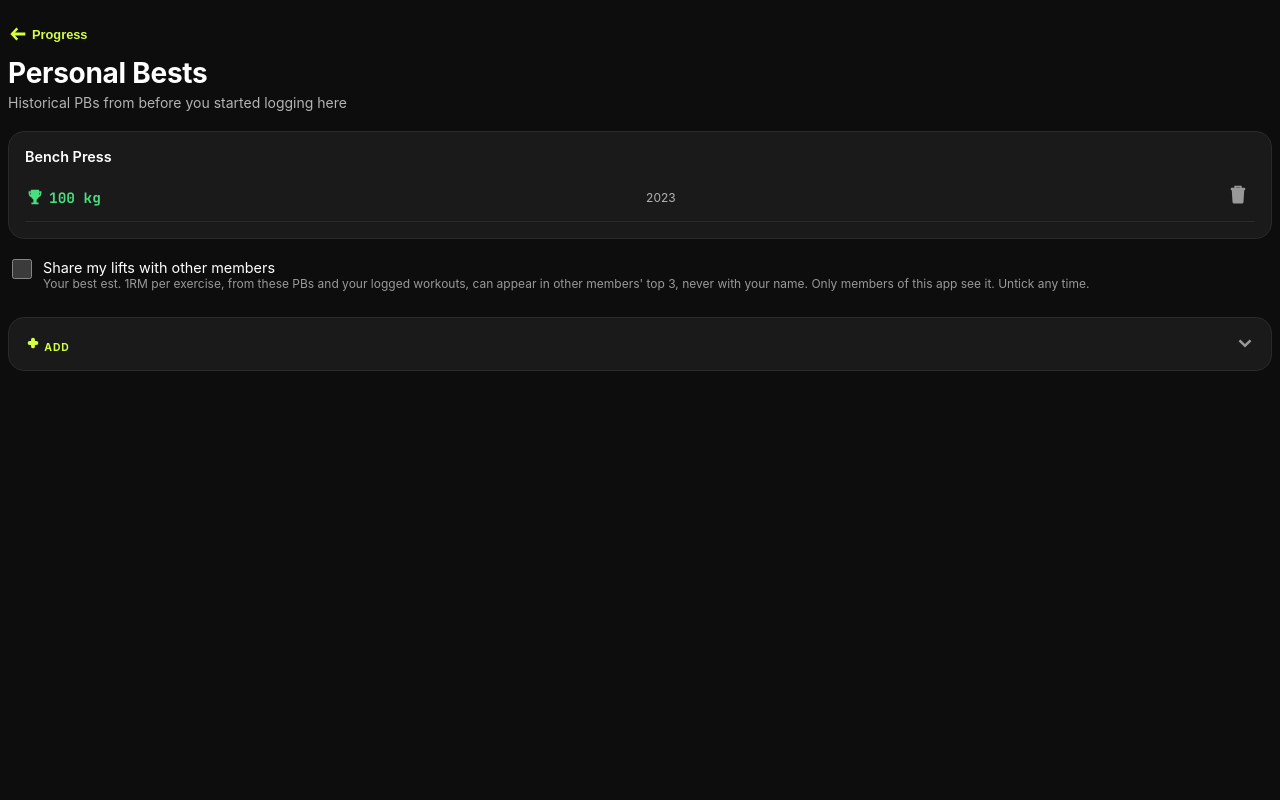
PersonalBests top-3 comparison › reflects the saved state in the toggle and sends PUT when it changes
This screenshot has width=1280, height=800.
What coordinates should you click on to do the following:
click the checkbox labelled "Share my lifts with other members"
I would click on:
 (22, 269)
Its box is [12, 259, 32, 279].
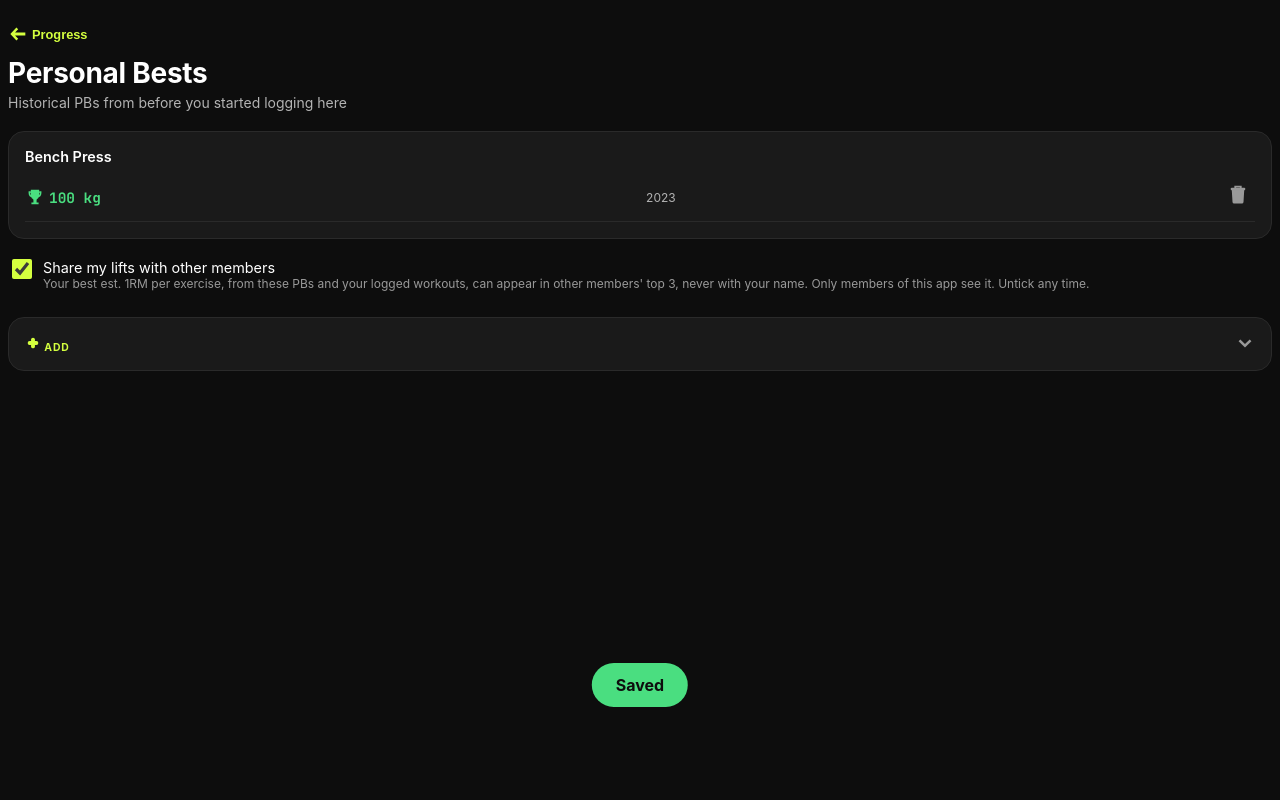
expect the checkbox labelled "Share my lifts with other members" is checked: met, box [12, 259, 32, 279]
expect the text "Saved" is shown: met, box [592, 663, 688, 707]
